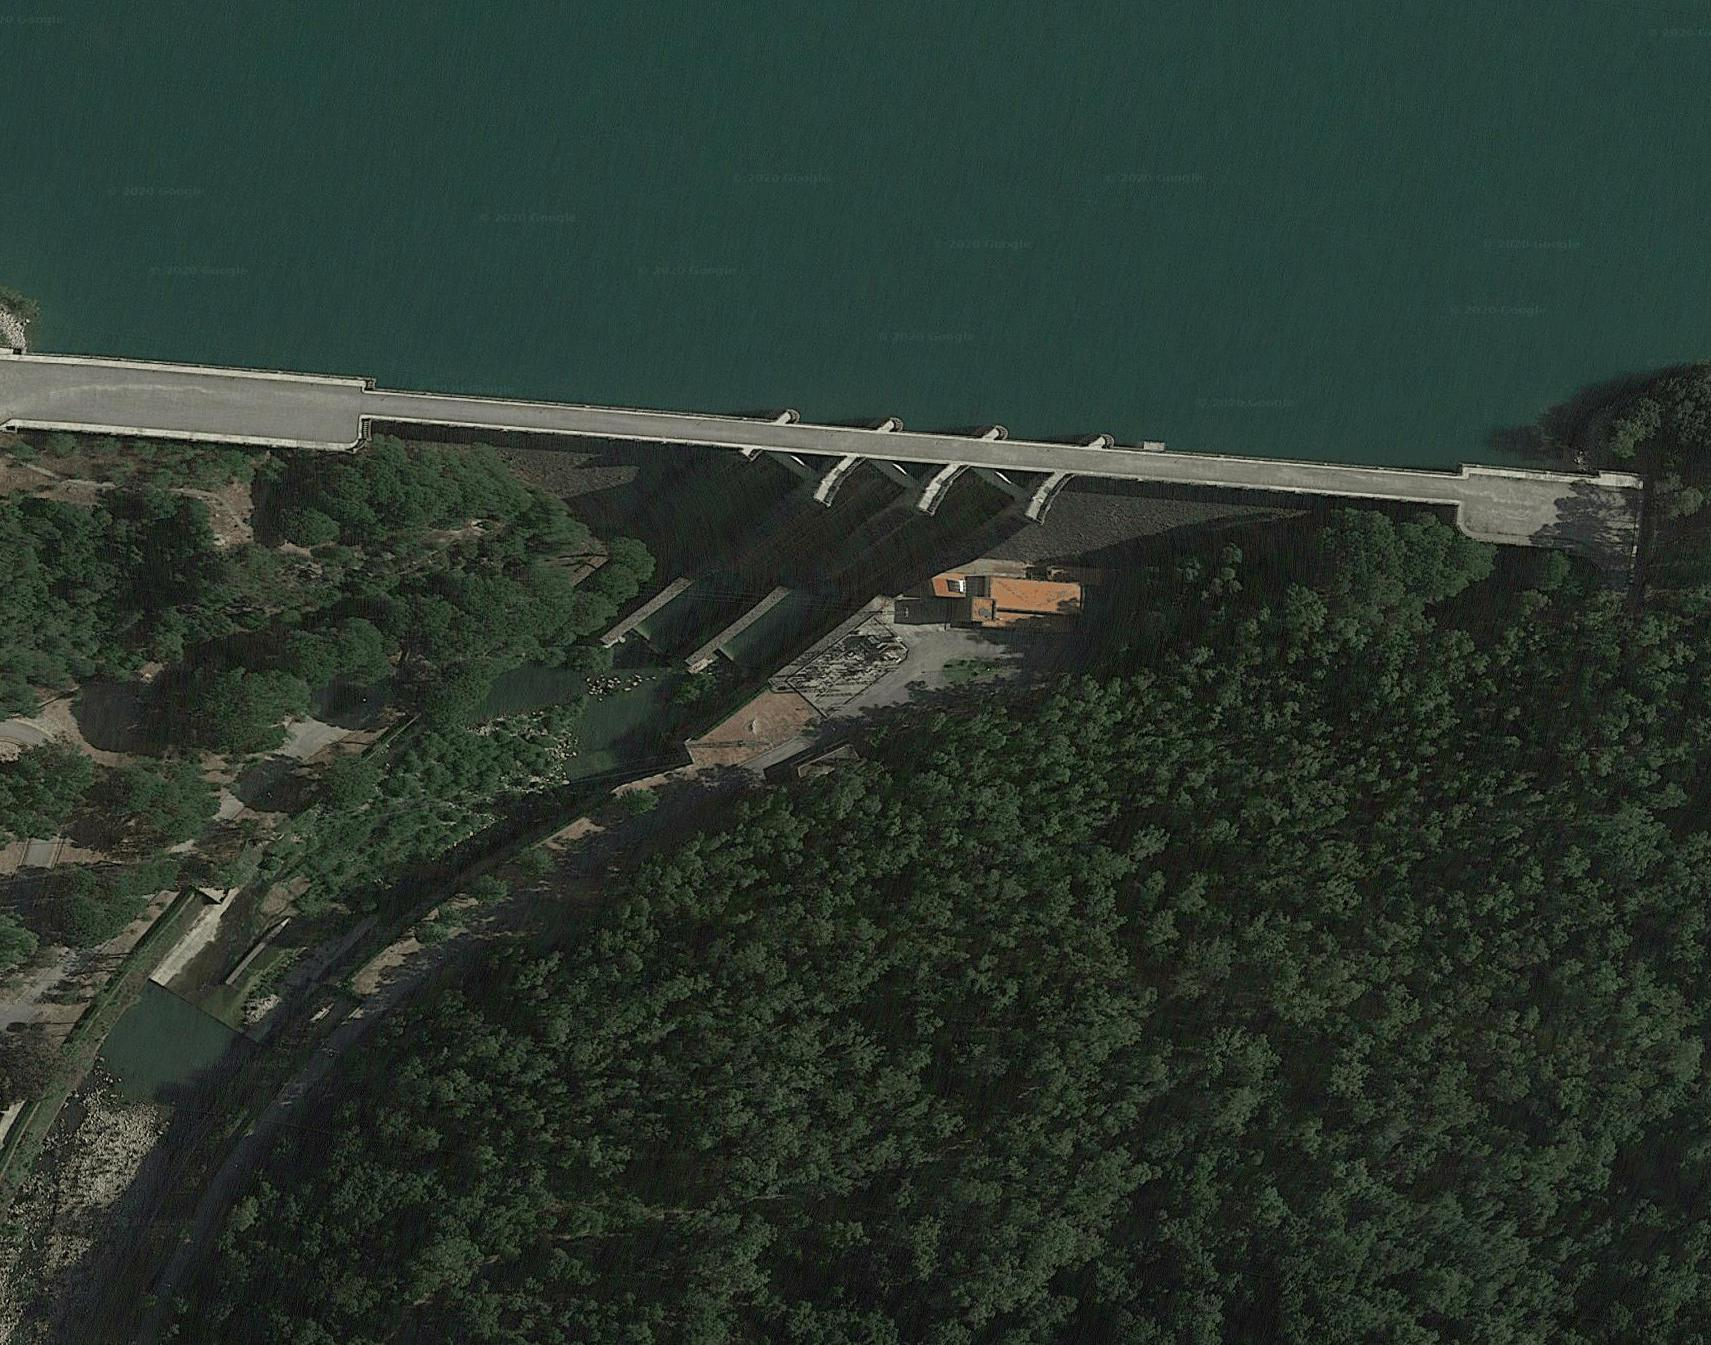substation: (789, 616, 910, 716)
